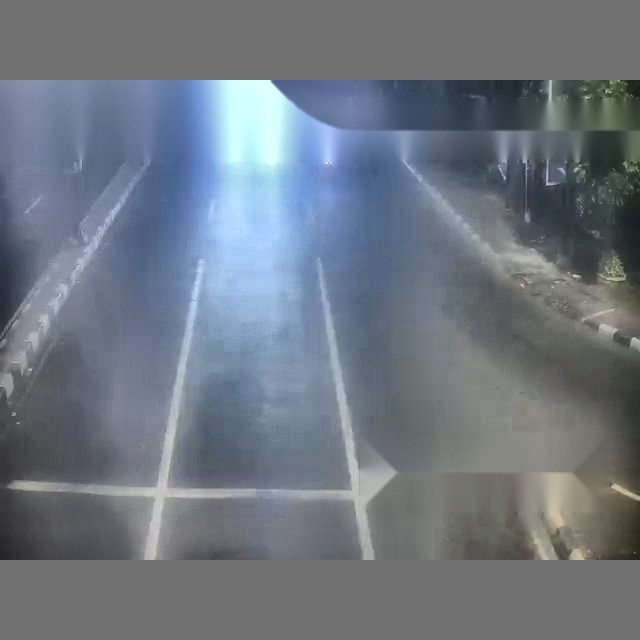Bis: (0, 86, 542, 498)
